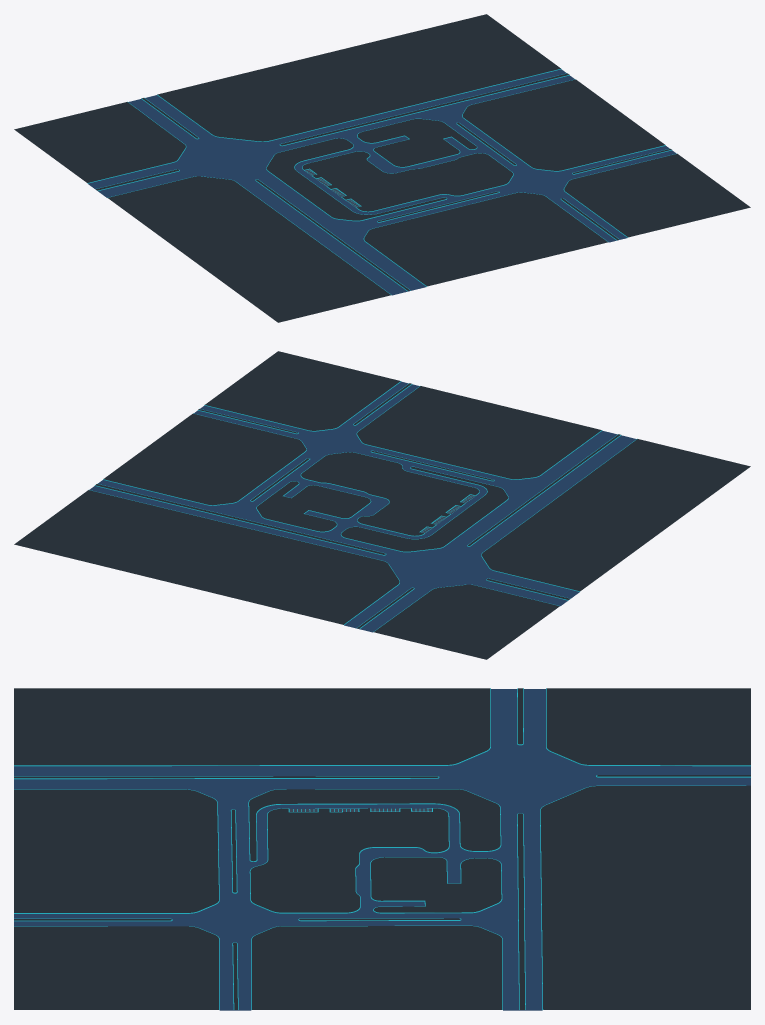
The picture shows the model from 3 angles, top to bottom: view 1: azimuth 30°, elevation 25°; view 2: azimuth 150°, elevation 25°; view 3: azimuth 270°, elevation 25°; orthographic projection. The views are drawn at different scales.
Visible parts, largest first — view 1: 1001dimian; view 2: 1001dimian; view 3: 1001dimian.
Part boxes in pixels (bbox=[...]): 1001dimian: bbox=[14, 14, 750, 322]; 1001dimian: bbox=[14, 351, 750, 659]; 1001dimian: bbox=[14, 688, 750, 1010].
Bounding box in the file's own units: 448 × 0.4 × 434.
4 materials, 4 textured.
